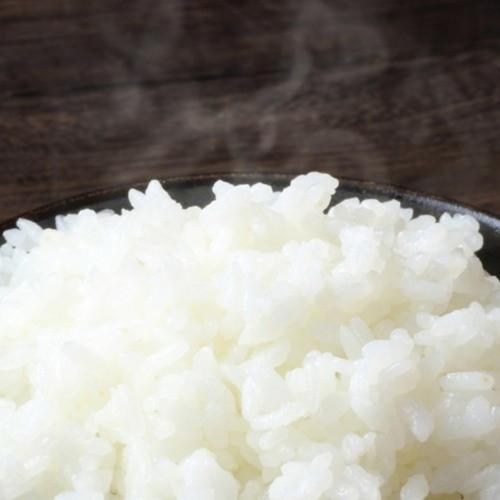WhiteRice: (0, 170, 500, 500)
